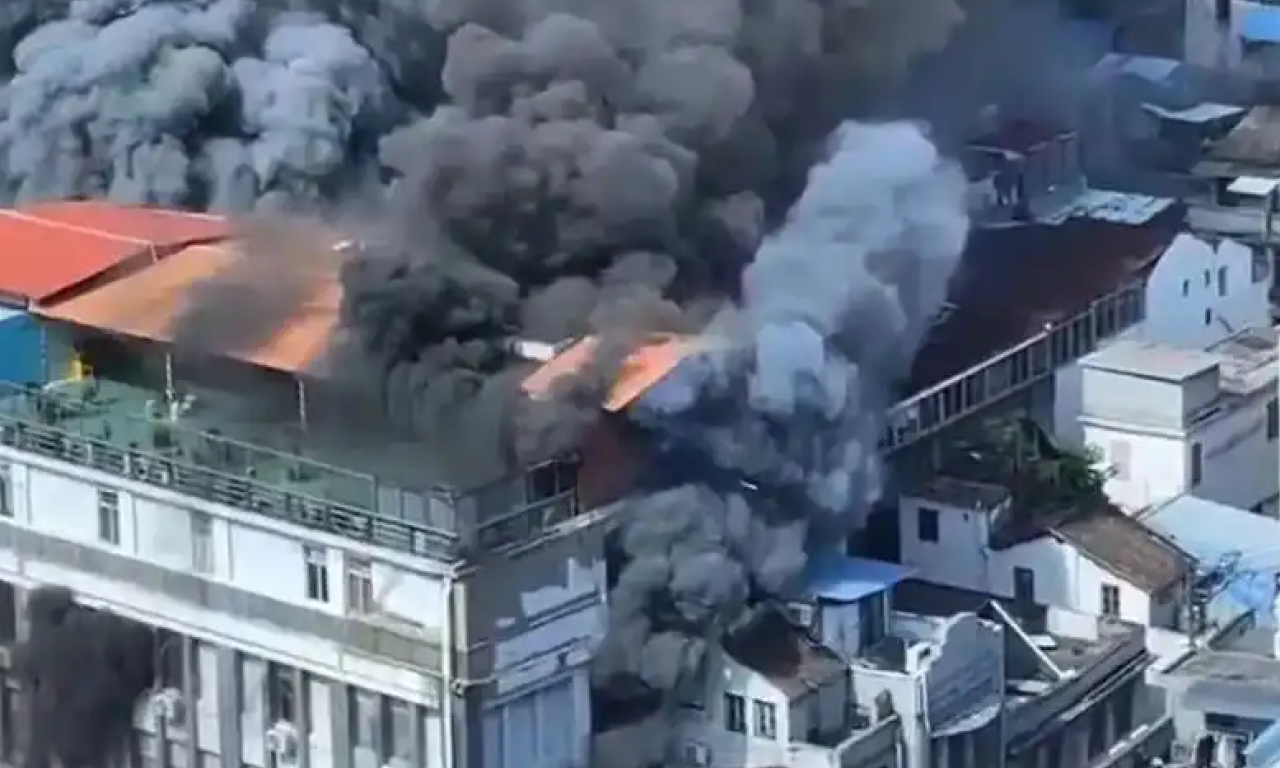fire: (15, 7, 1000, 665)
